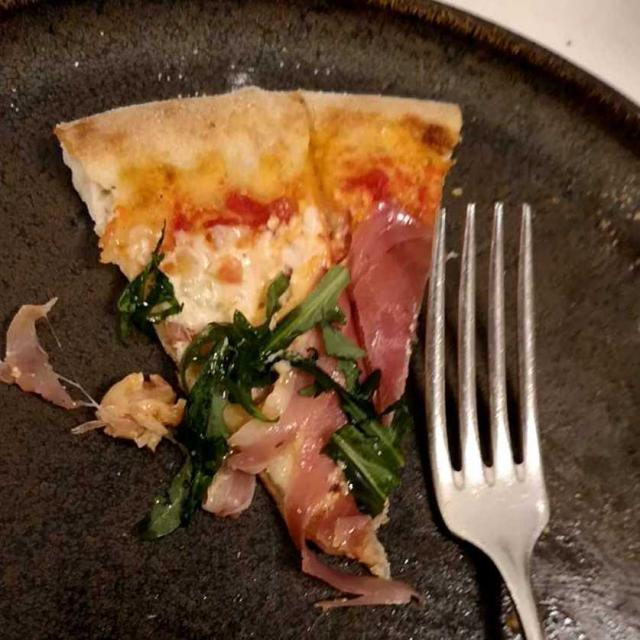pizza: (54, 109, 497, 605)
salad: (153, 262, 393, 533)
